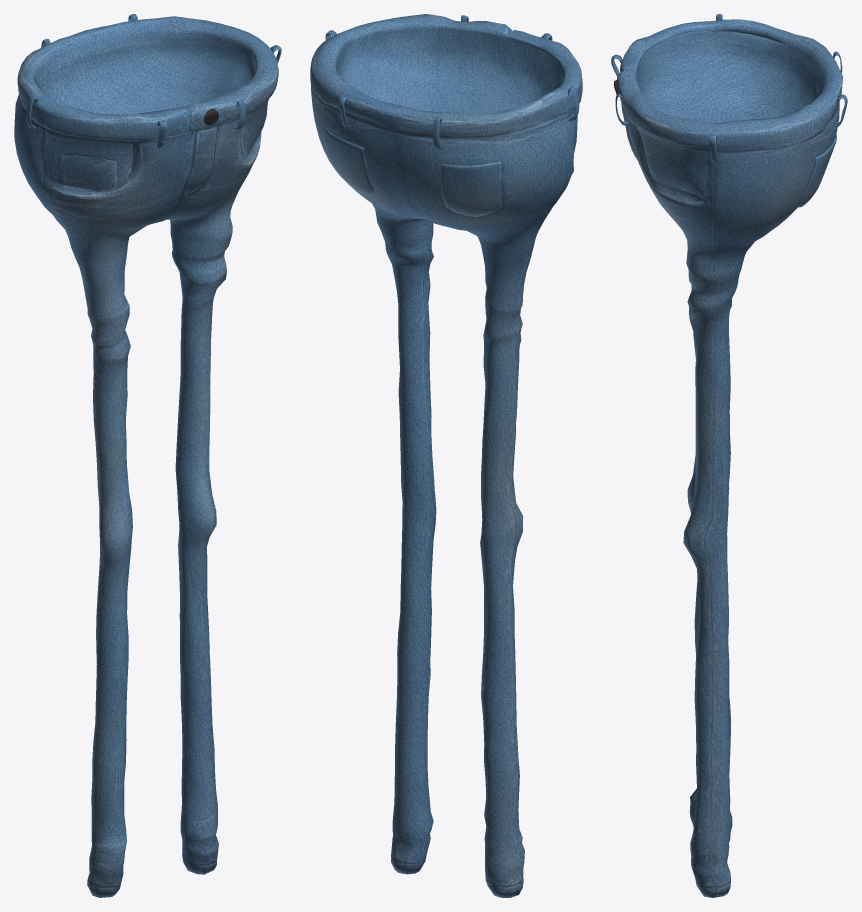
Rendered from male_pants4.glb.
3 renders of one model, left to right at view 1: azimuth 30°, elevation 25°; view 2: azimuth 150°, elevation 25°; view 3: azimuth 270°, elevation 25°, orthographic. The views are drawn at different scales.
Visible parts, largest first — view 1: node_id30; view 2: node_id30; view 3: node_id30.
Part boxes in pixels (x1,y1,x2,y2): node_id30: (14,14,281,897); node_id30: (310,14,582,897); node_id30: (611,14,847,897).
Bounding box in the file's own units: 0.1654 × 0.512 × 0.1373.
1 material, 1 textured.
